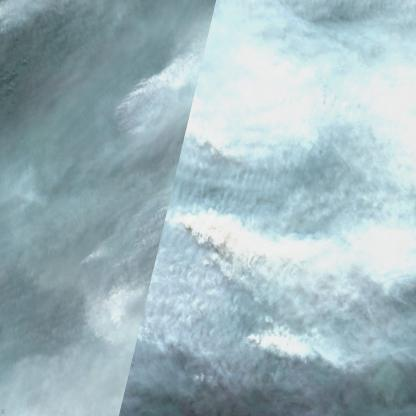fire: (71, 208, 243, 348), (109, 72, 174, 148), (186, 369, 198, 384)
